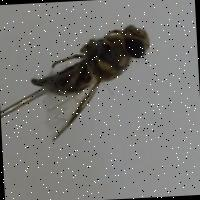Oriental-fruit-fly: (26, 18, 160, 144)
